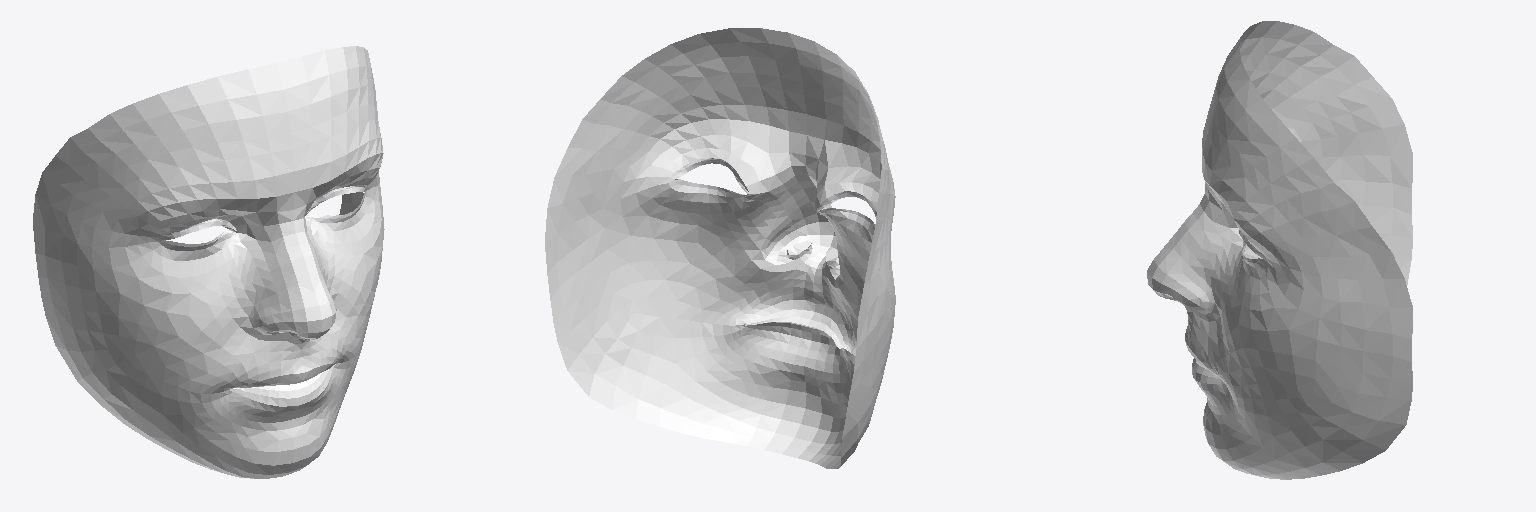
File: eyeSquint_R.obj
The picture shows the model from 3 angles: view 1: azimuth 30°, elevation 25°; view 2: azimuth 150°, elevation 25°; view 3: azimuth 270°, elevation 25°; orthographic projection.
Visible parts, largest first — view 1: default; view 2: default; view 3: default.
Boxes of the visible parts, <box> form: default: <box>33,46,384,478</box>; default: <box>545,28,895,468</box>; default: <box>1147,21,1412,479</box>.
Bounding box in the file's own units: 0.1447 × 0.182 × 0.1055.